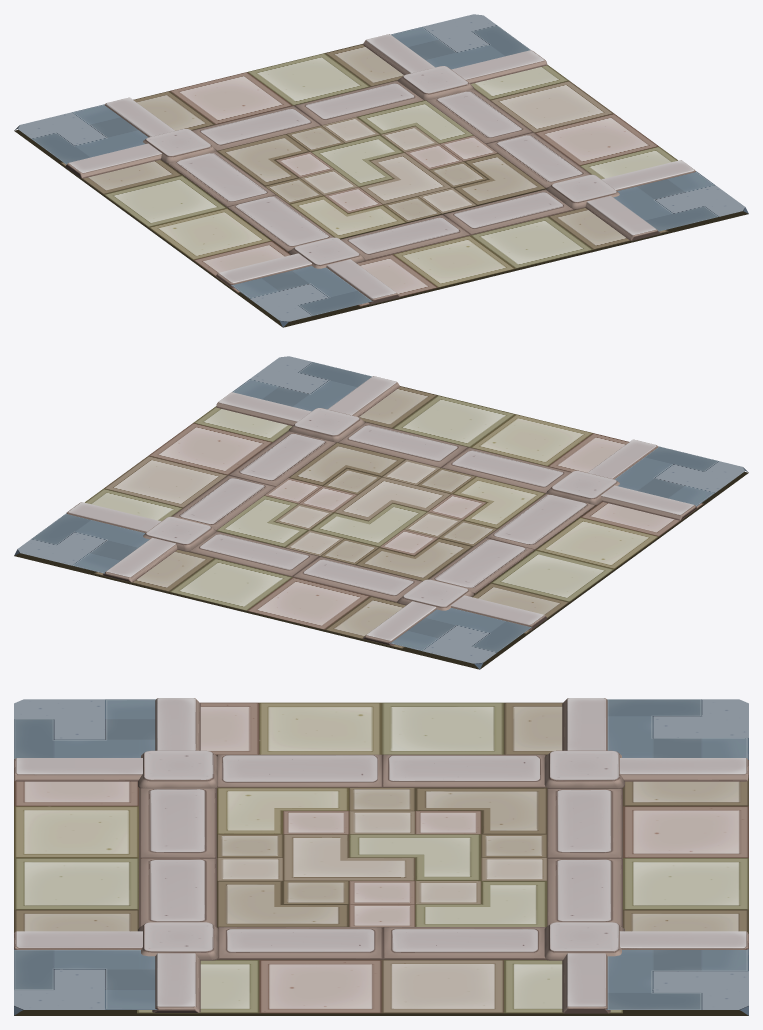
File: road_crossroads.glb
3 renders of one model, top to bottom at view 1: azimuth 30°, elevation 25°; view 2: azimuth 150°, elevation 25°; view 3: azimuth 270°, elevation 25°, orthographic. The views are drawn at different scales.
Parts seen in each view (by area): view 1: road_07; view 2: road_07; view 3: road_07.
Part boxes in pixels (<box>): road_07: <box>14,14,748,327</box>; road_07: <box>14,356,748,669</box>; road_07: <box>14,698,748,1015</box>.
Size of what is drawn, in the model's own units: 16 by 0.2304 by 16.
Materials: 1 (1 with a texture image).
